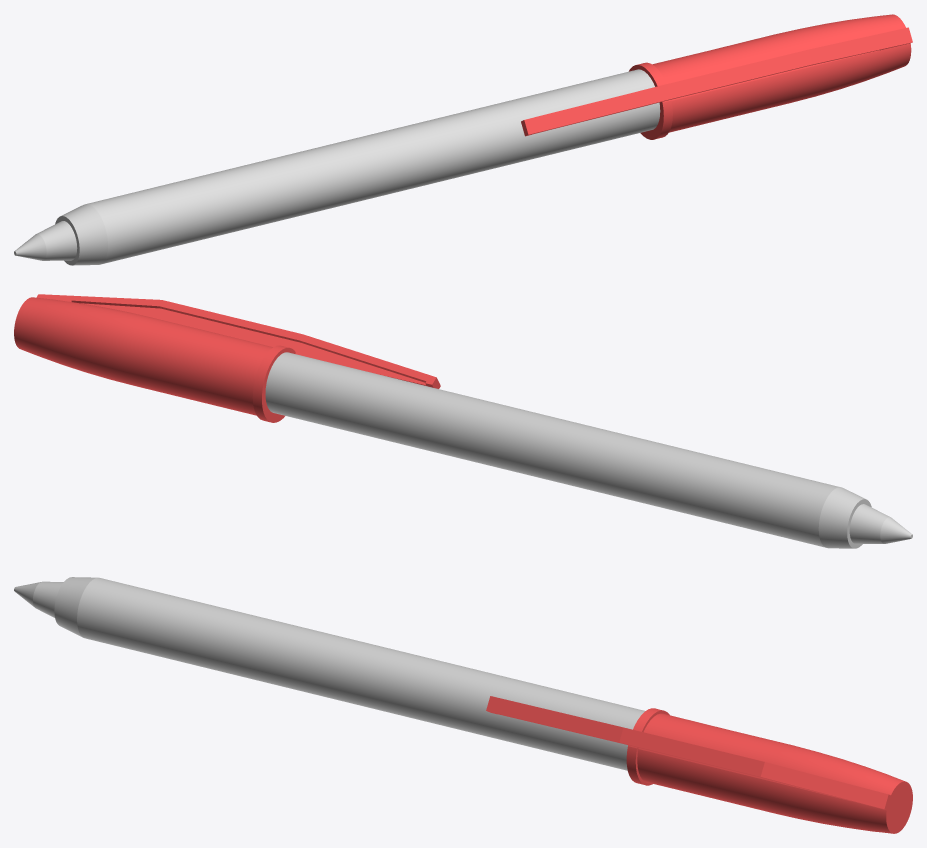
Rendered from 193_ボールペンキャップ式開.glb.
The picture shows the model from 3 angles, top to bottom: view 1: azimuth 30°, elevation 25°; view 2: azimuth 150°, elevation 25°; view 3: azimuth 330°, elevation 25°; orthographic projection.
Parts seen in each view (by area): view 1: body, キャップ; view 2: body, キャップ; view 3: body, キャップ.
Boxes of the visible parts, x1,y1,x2,y2 form: body: [14, 69, 660, 265]; キャップ: [521, 14, 912, 139]; body: [265, 352, 912, 548]; キャップ: [14, 294, 440, 422]; body: [14, 577, 645, 770]; キャップ: [486, 696, 912, 833].
Size of the model in its own units: 0.1313 by 0.0099 by 0.0118.
